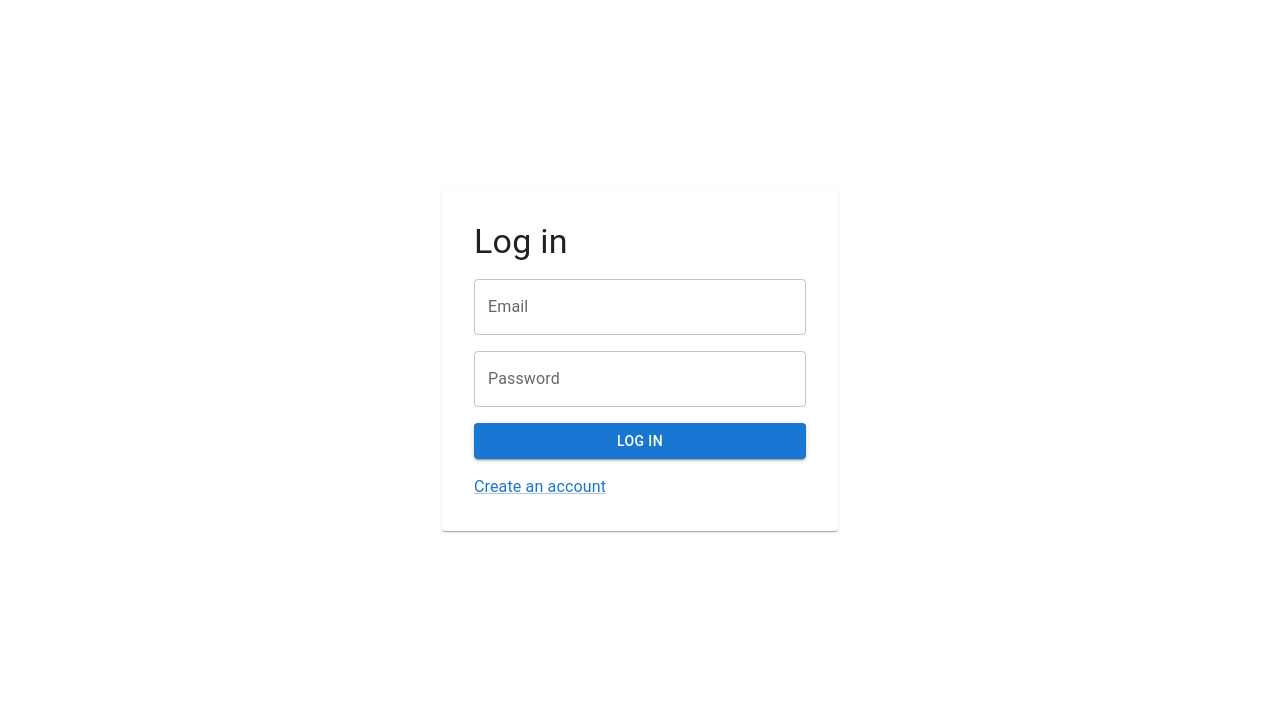
LoginPage › returns to the page that redirected an anonymous user
Expected: the heading "Log in" is shown, [474,221,568,261]
Type "a@b.com" into the field labelled "Email" at (640, 307), box [474,279,806,335]
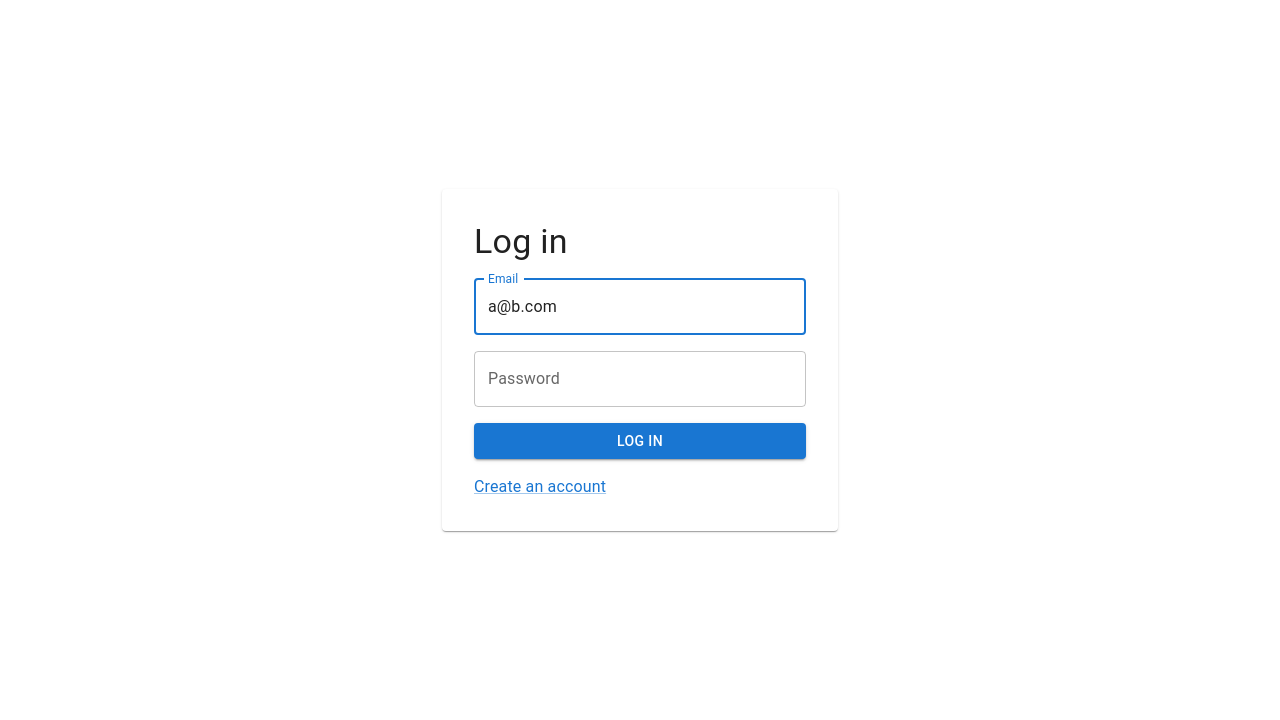
Type "password123" into the password field labelled "Password" at (640, 379), box [474,351,806,407]
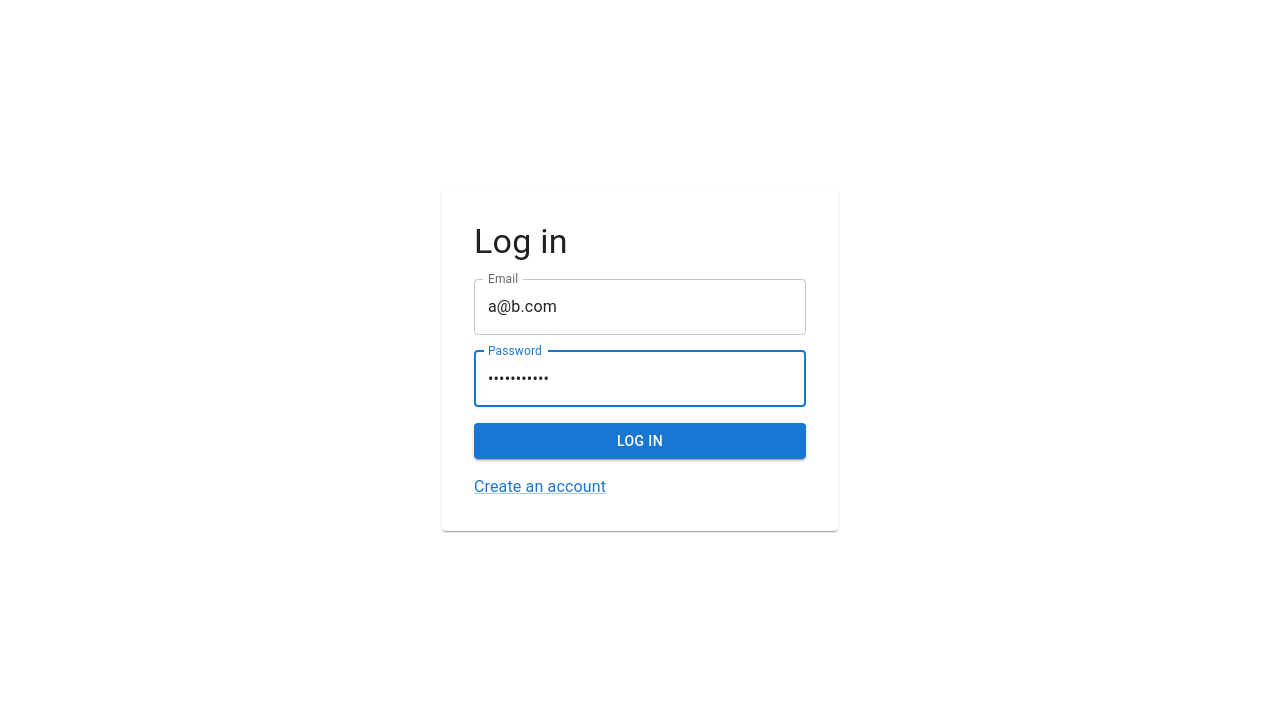
Click the button "Log in" at (640, 441), box [474,423,806,459]
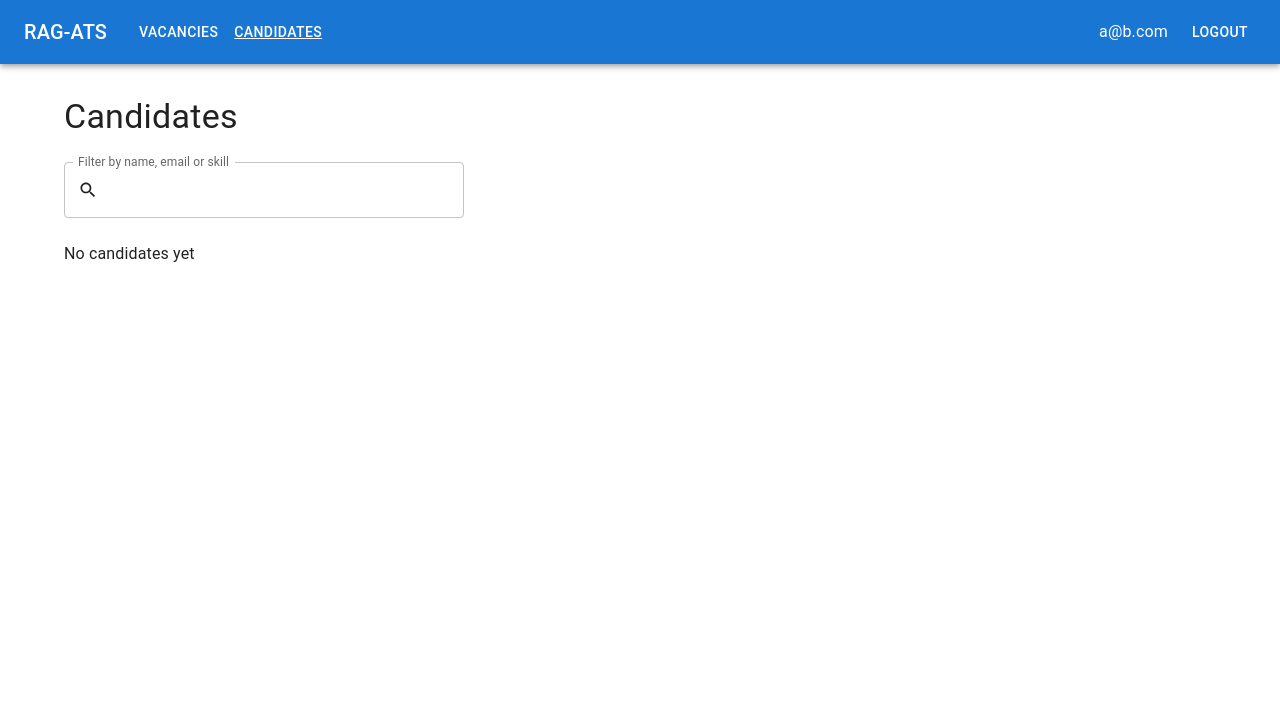
Now the heading "Candidates" is shown, box [64,96,238,138]
